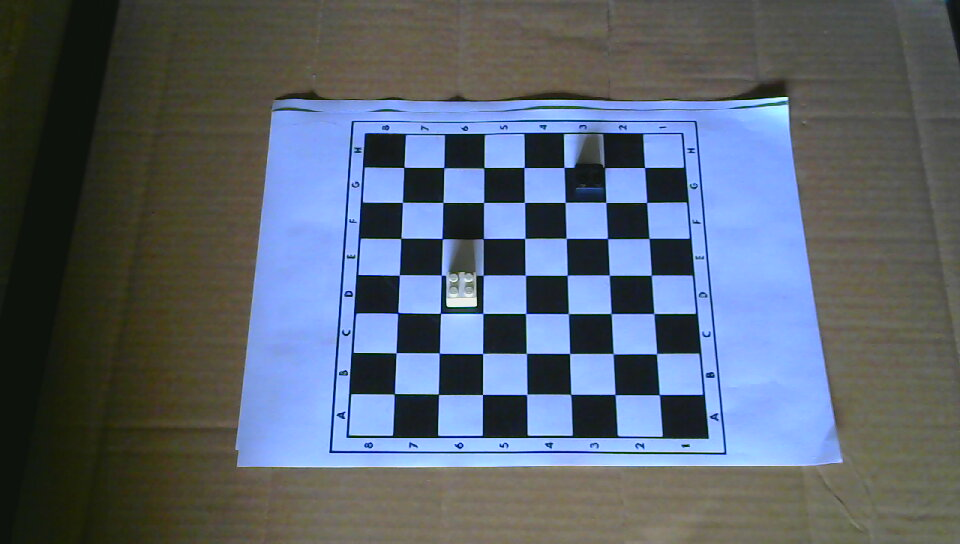bp: (572, 161, 607, 203)
wp: (443, 268, 479, 309)
